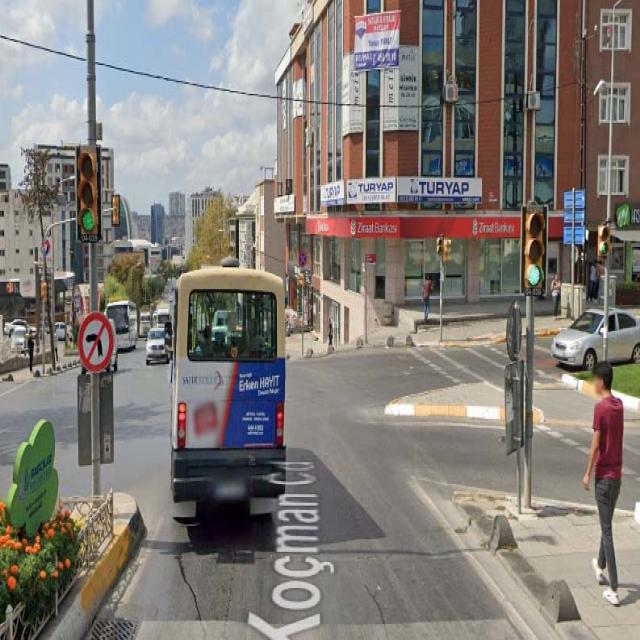soladonulmez: (78, 312, 115, 373)
yesil: (76, 143, 99, 241), (522, 205, 544, 292)
